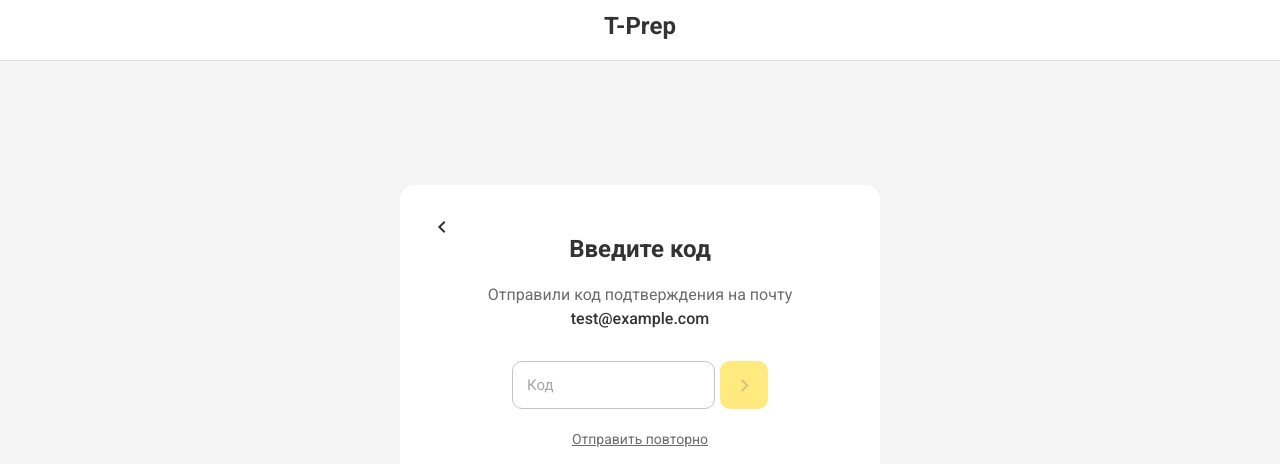
it: EmailVerification › should resend verification code and restart timer
Click the button "Отправить повторно". click: click(640, 439)
box: top-left (572, 431), bottom-right (708, 447)
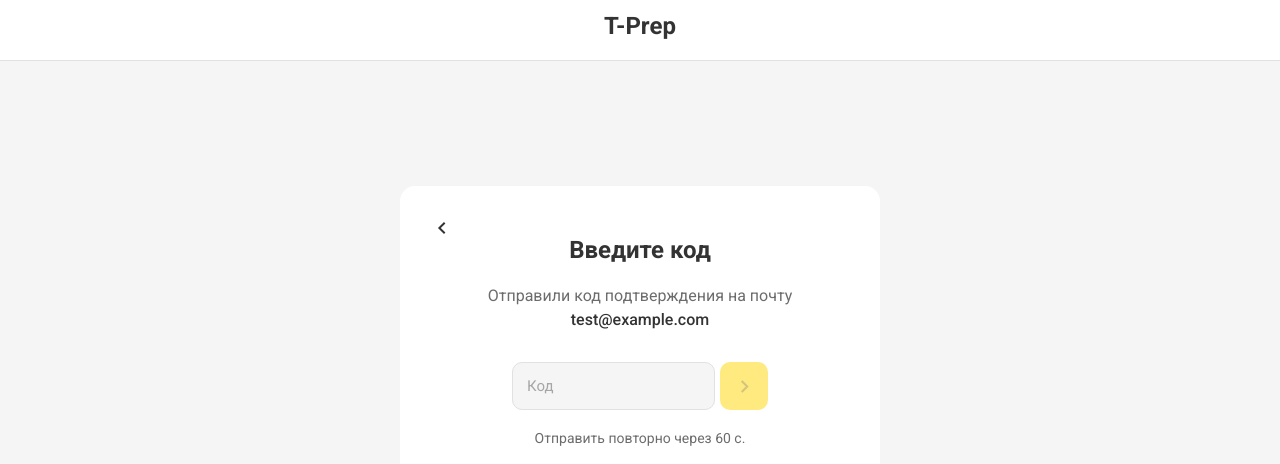
Expected: the text "Отправить повторно через 60 с." is shown, top-left (535, 430), bottom-right (745, 446)
